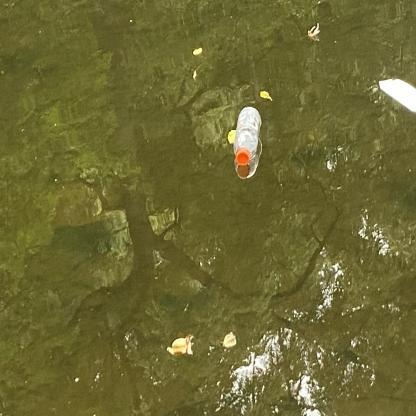trash: (232, 101, 266, 171), (379, 72, 416, 118)
